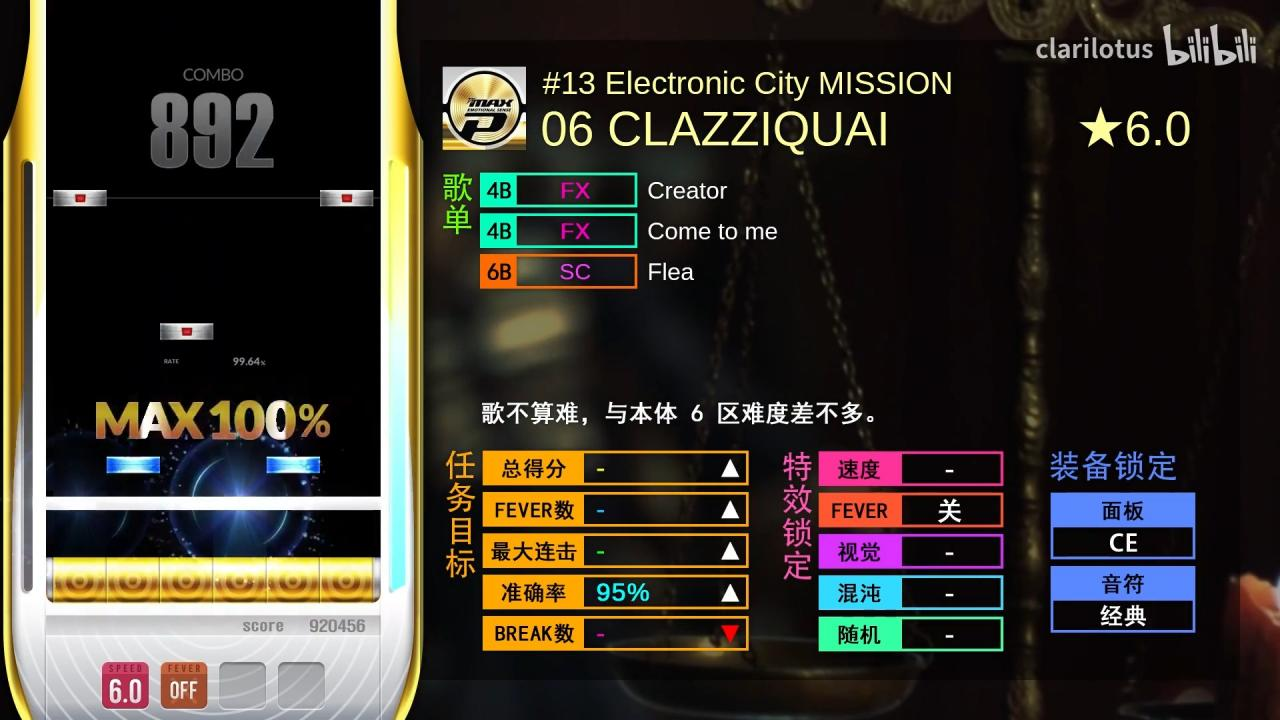note: (106, 456, 160, 474), (320, 189, 373, 207), (53, 190, 107, 207), (160, 323, 213, 340), (266, 457, 320, 473)
